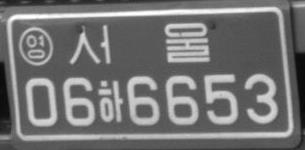0: (25, 76, 58, 127)
3: (244, 72, 278, 124)
5: (203, 73, 238, 125)
6: (126, 75, 160, 126), (165, 74, 198, 126), (62, 76, 95, 127)
서울_D: (68, 21, 210, 65)
영: (18, 26, 53, 66)
하: (98, 79, 123, 123)
